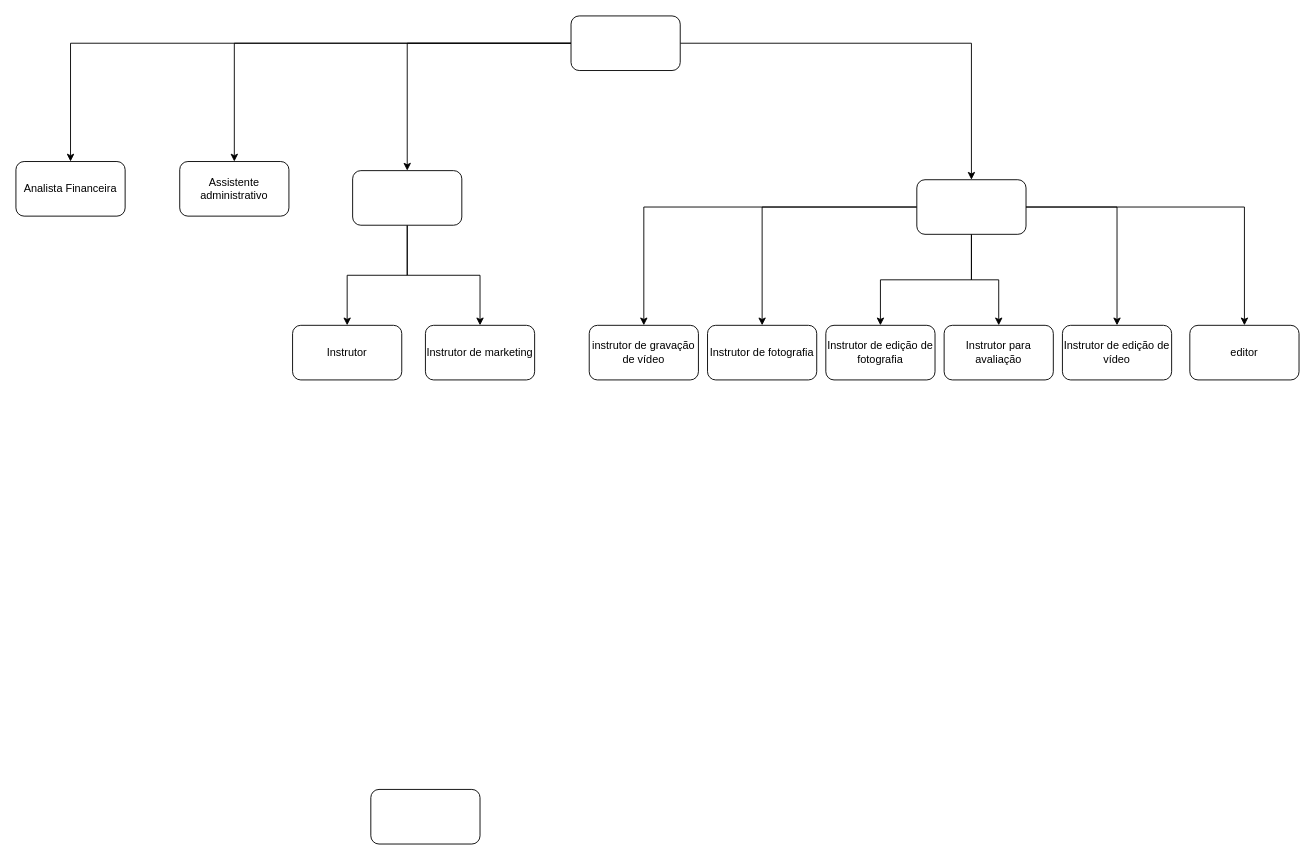
Image size: 1315x860. Some labels were removed from this diagram. Each missing label, with the centre of its shape:
"Analista de sistema" belongs at point 425,816.
"Assistente de marketing" belongs at point 407,197.
"Designer" belongs at point 971,206.
"Gerente de projetos" belongs at point 625,43.
